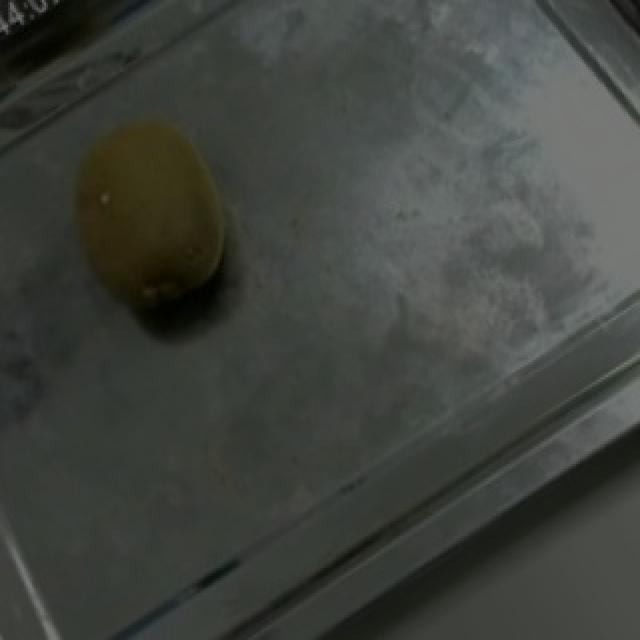Fruit: (30, 87, 272, 335)
